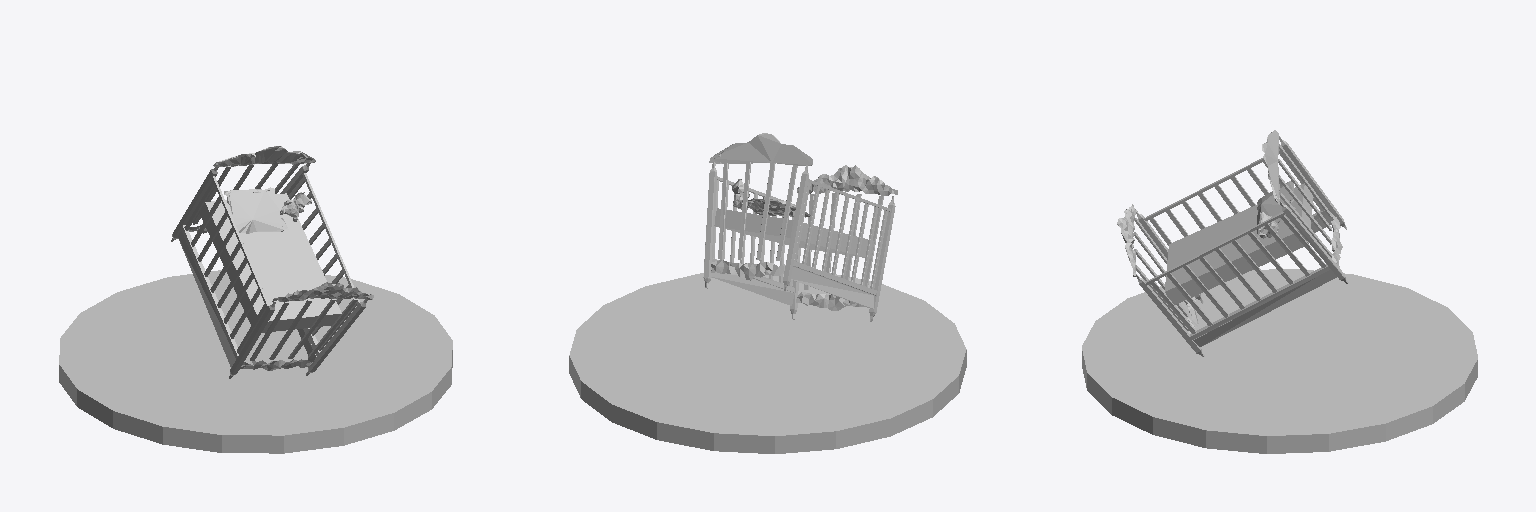
Rendered from 1-1 crib.obj.
3 views of the same model, side by side, from view 1: azimuth 30°, elevation 25°; view 2: azimuth 150°, elevation 25°; view 3: azimuth 270°, elevation 25° (orthographic).
Visible parts, largest first — view 1: polySurface203 polySurface202, polySurface390, pCube4, polySurface202 polySurface299; view 2: polySurface203 polySurface202, polySurface390, pCube4, polySurface202 polySurface299; view 3: polySurface203 polySurface202, polySurface390, pCube4, polySurface202 polySurface299.
Boxes of the visible parts, x1,y1,x2,y2 form: polySurface203 polySurface202: [59, 270, 452, 453]; polySurface390: [171, 146, 373, 378]; pCube4: [200, 193, 341, 332]; polySurface202 polySurface299: [224, 187, 288, 233]; polySurface203 polySurface202: [569, 273, 966, 453]; polySurface390: [703, 133, 897, 321]; pCube4: [714, 208, 874, 258]; polySurface202 polySurface299: [736, 199, 810, 217]; polySurface203 polySurface202: [1082, 269, 1477, 453]; polySurface390: [1117, 130, 1348, 356]; pCube4: [1165, 183, 1313, 304]; polySurface202 polySurface299: [1257, 181, 1295, 237].
Bounding box in the file's own units: 639 × 406 × 639.